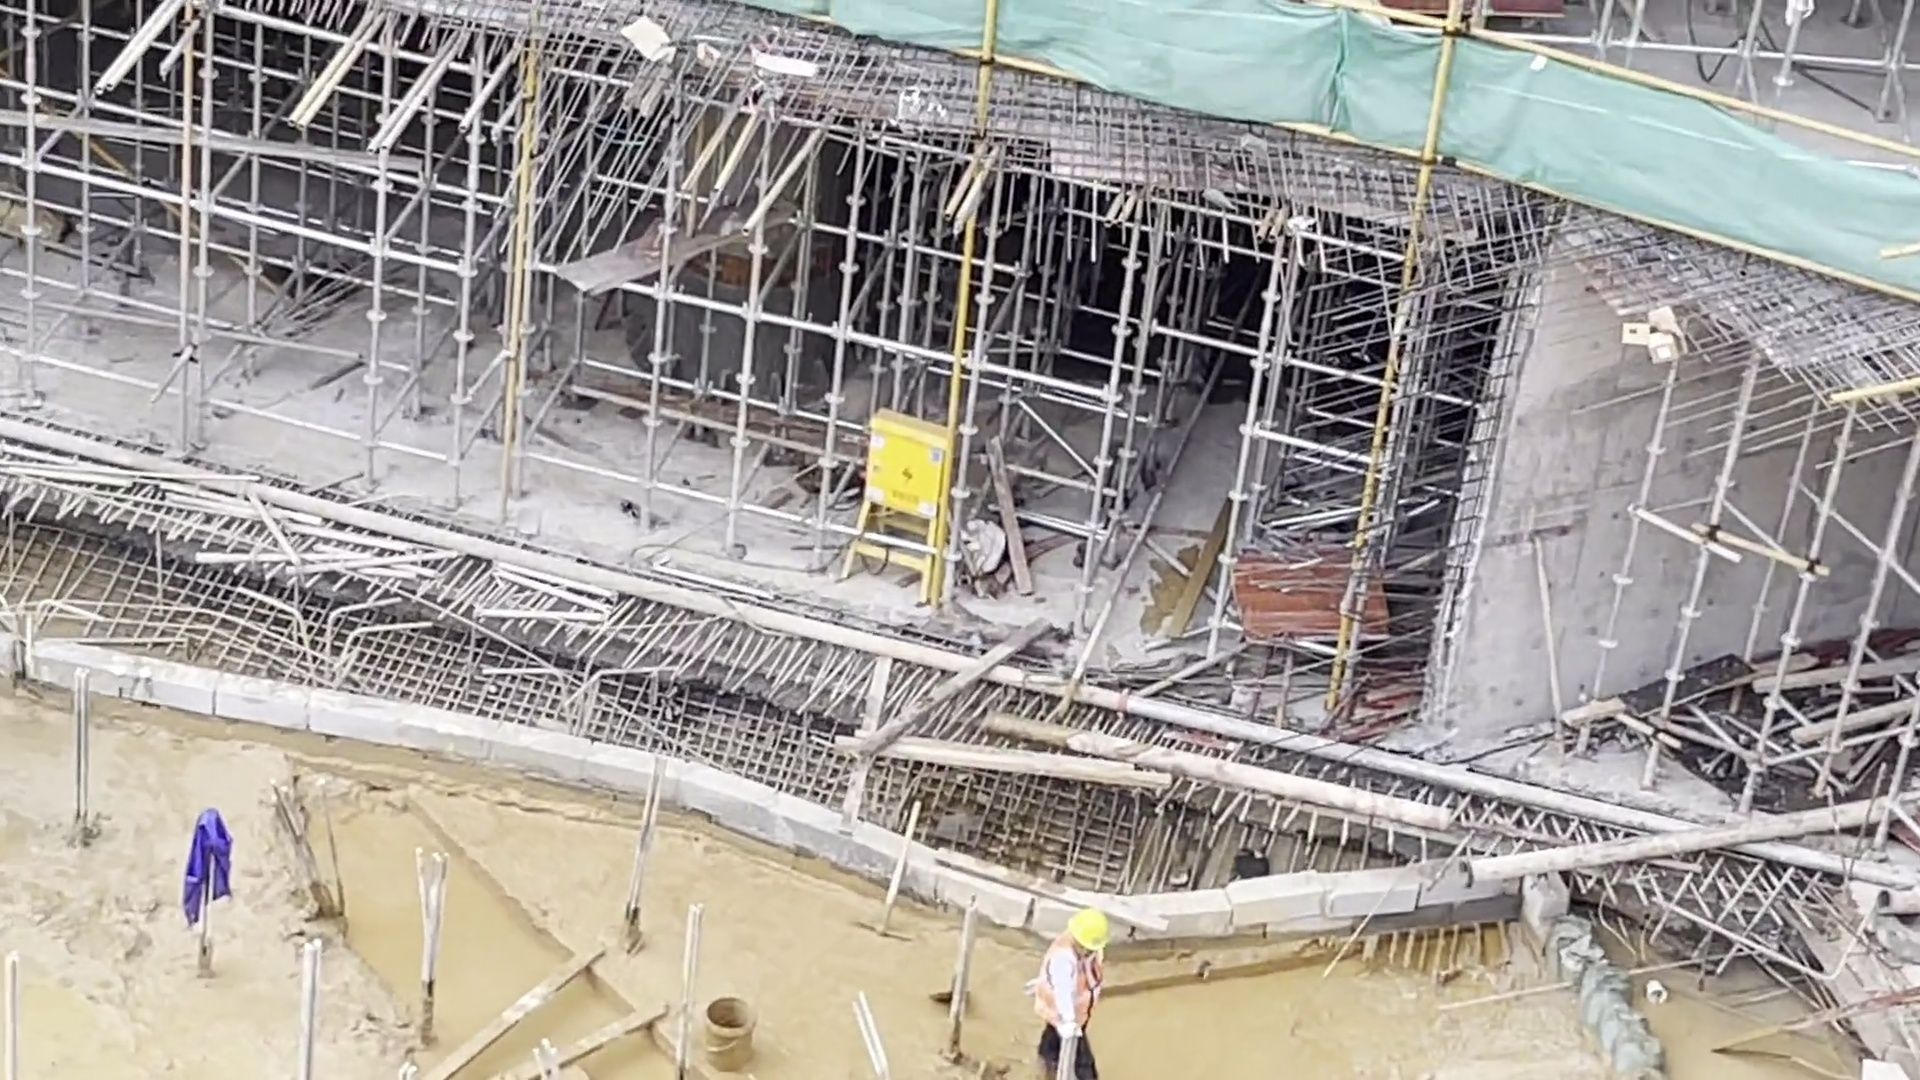ebox: (843, 411, 959, 609)
helmet: (1067, 905, 1113, 951)
person: (1024, 903, 1118, 1080)
vest: (1037, 934, 1103, 1036)
